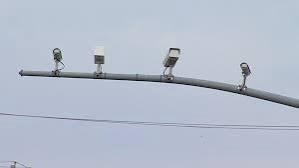Speed-Camera: (159, 43, 255, 90), (48, 36, 111, 80)
